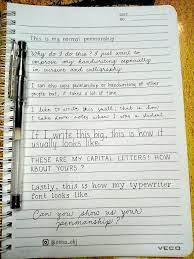text: (30, 127, 165, 142), (32, 206, 143, 222), (29, 152, 171, 164), (31, 180, 172, 192), (30, 111, 165, 122), (31, 55, 152, 67), (30, 79, 160, 90), (30, 48, 141, 60), (29, 103, 160, 113), (54, 215, 121, 233), (31, 64, 122, 75), (31, 138, 100, 152), (31, 88, 117, 99), (29, 34, 117, 44), (31, 191, 88, 201), (29, 164, 84, 173), (51, 237, 79, 248), (156, 245, 181, 252), (119, 12, 129, 17), (119, 17, 128, 22)
